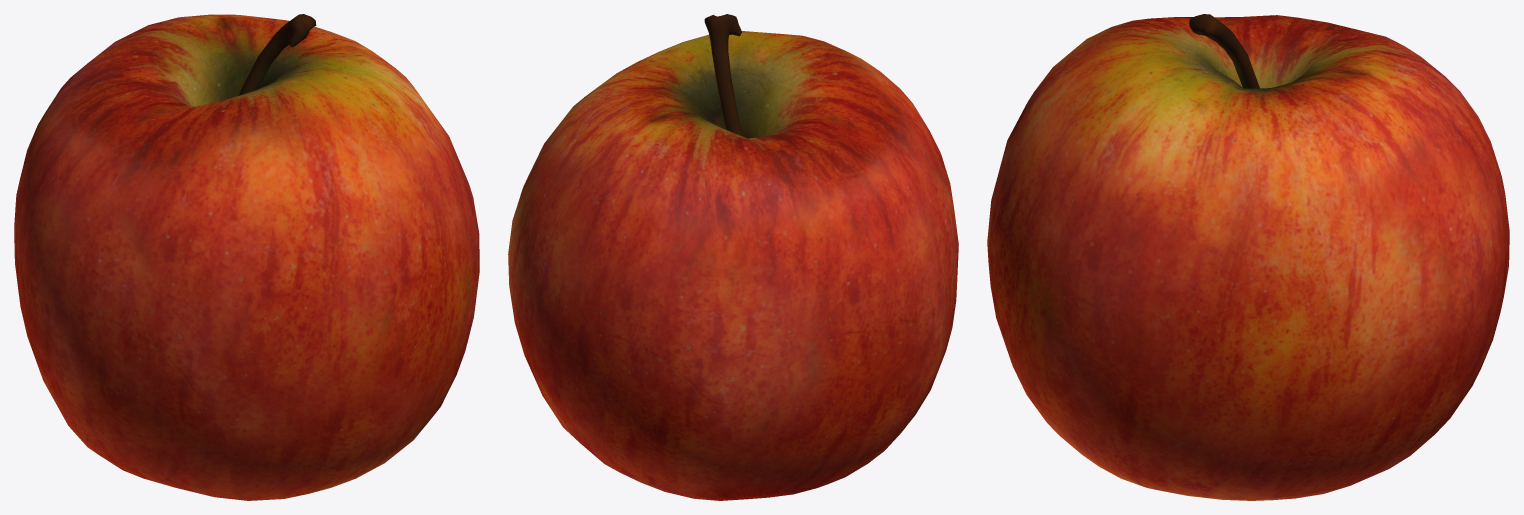
3 renders of one model, left to right at view 1: azimuth 30°, elevation 25°; view 2: azimuth 150°, elevation 25°; view 3: azimuth 270°, elevation 25°, orthographic. The views are drawn at different scales.
Parts seen in each view (by area): view 1: apple_low_obj; view 2: apple_low_obj; view 3: apple_low_obj.
Part boxes in pixels (left/top/right/bottom): apple_low_obj: left=14, top=14, right=479, bottom=500; apple_low_obj: left=508, top=14, right=958, bottom=500; apple_low_obj: left=987, top=14, right=1509, bottom=500.
Size of the model in its own units: 76.34 by 79.5 by 82.14.
Materials: 1 (1 with a texture image).
